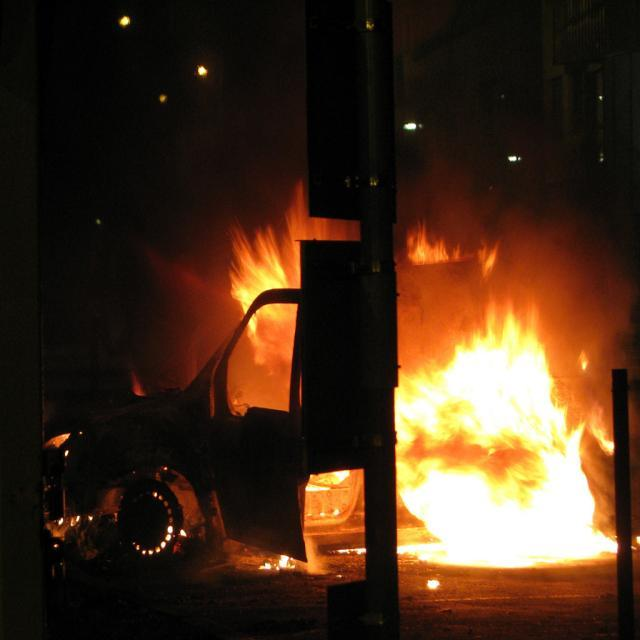Fire: (415, 354, 600, 564)
